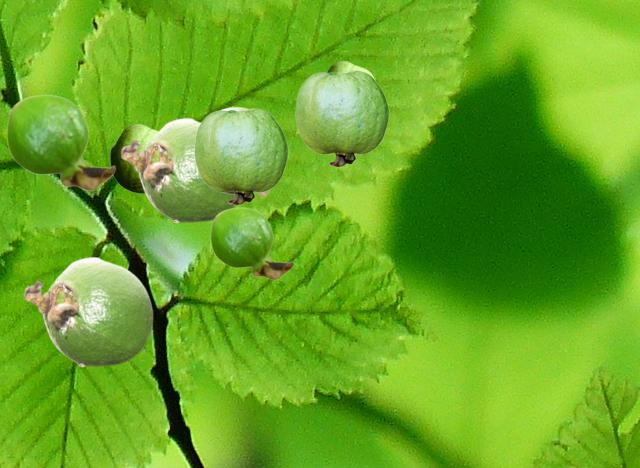guava: (23, 256, 153, 366), (120, 117, 235, 222), (6, 94, 115, 190), (194, 108, 287, 204), (295, 70, 388, 166), (210, 207, 293, 279), (220, 106, 270, 197), (110, 124, 158, 192), (327, 61, 374, 77)
